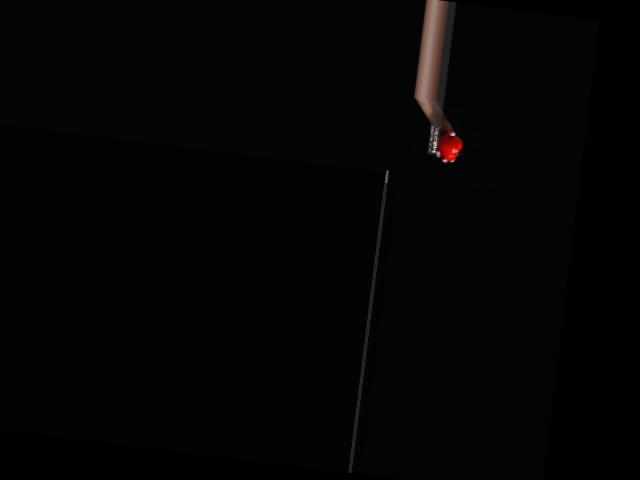tomato: (436, 133, 464, 161)
